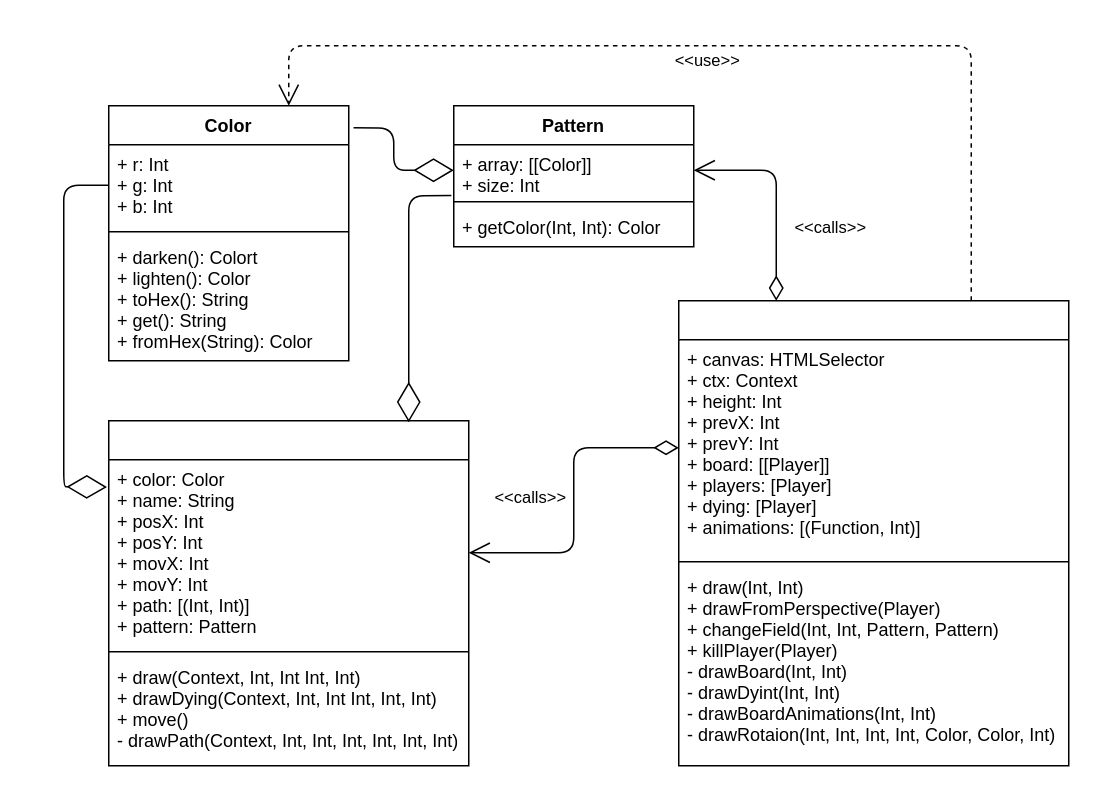
The diagram is 1095 pixels wide and 797 high, and some of its shapes have lost their labels. The shapes that lost their labels are listed below. From the top down, each one's box as (x1, y1, x2, y2) in pixels, then its label:
(677, 299, 1069, 766): BoardView
(107, 419, 469, 766): Player
